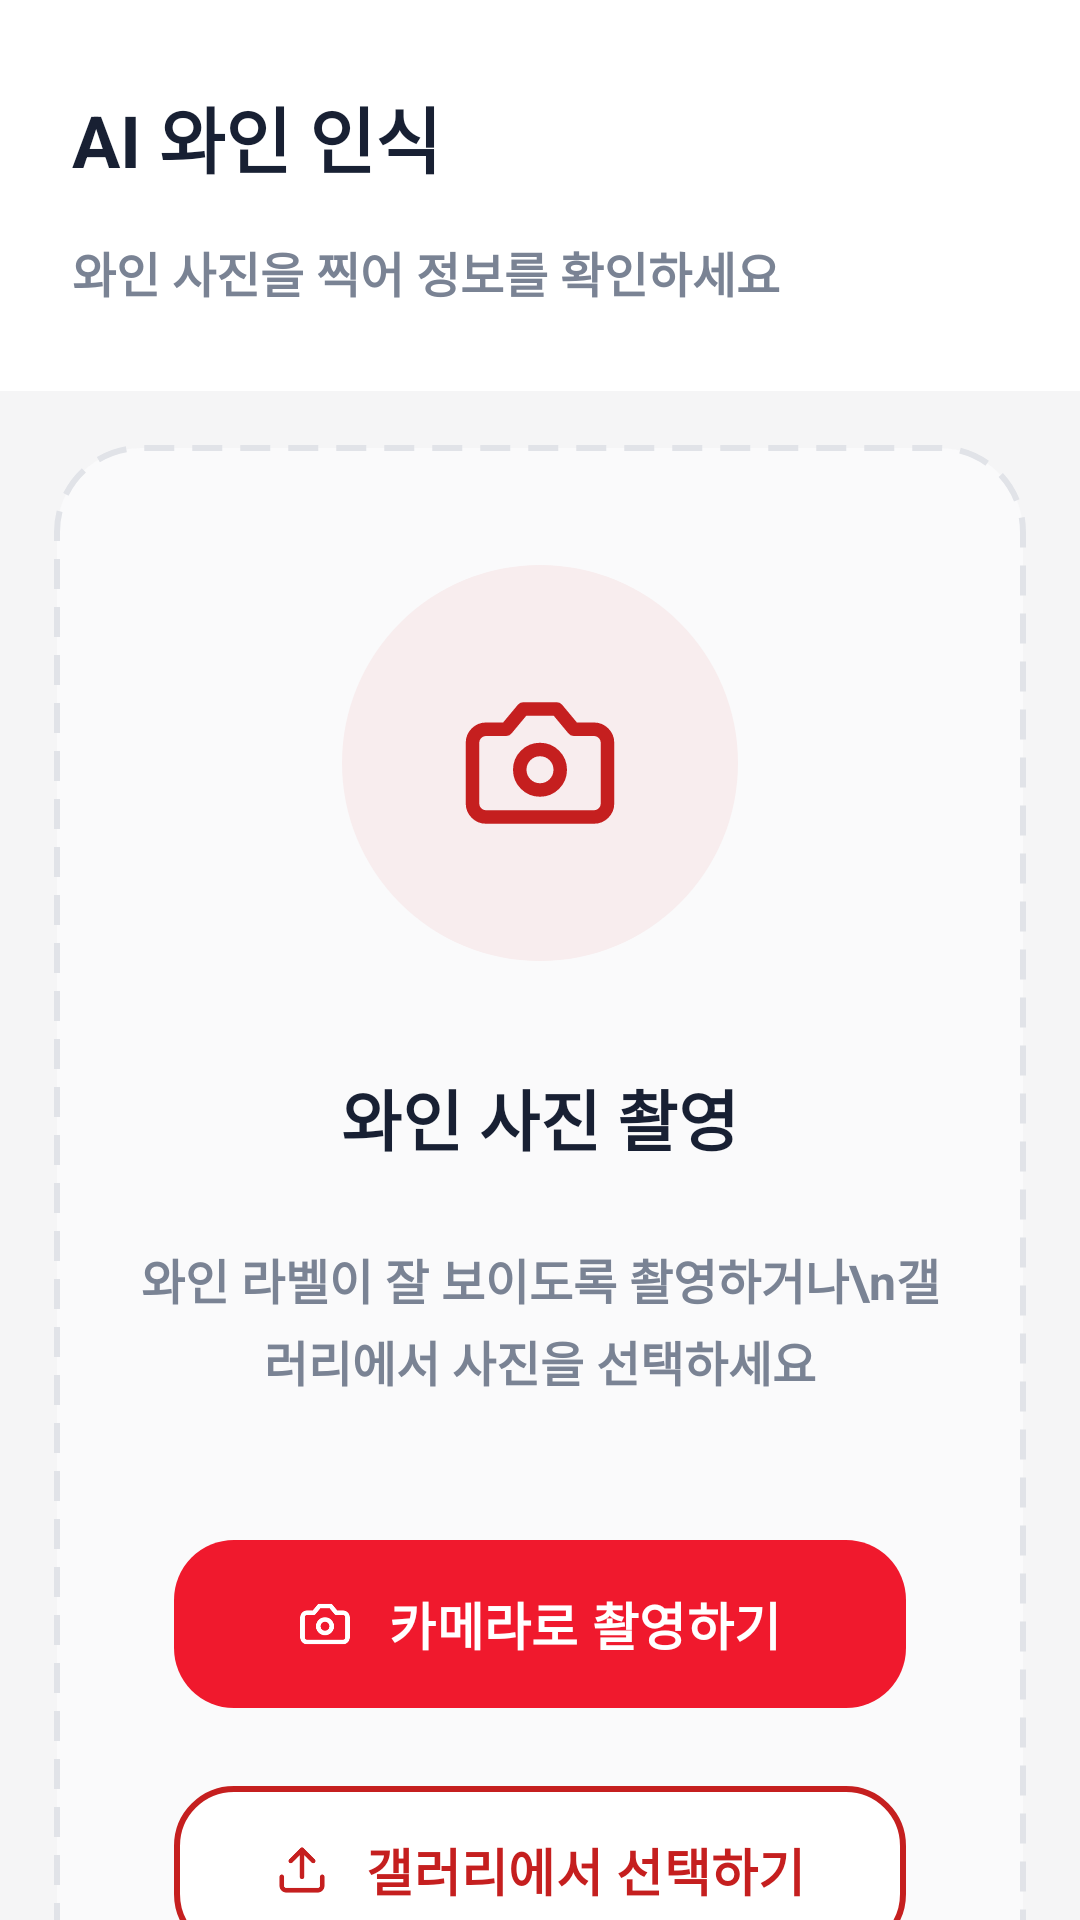

Icons on this 1080 x 1920 Android screen, each with the point to tap as [x,y]:
camera: [540,763]
